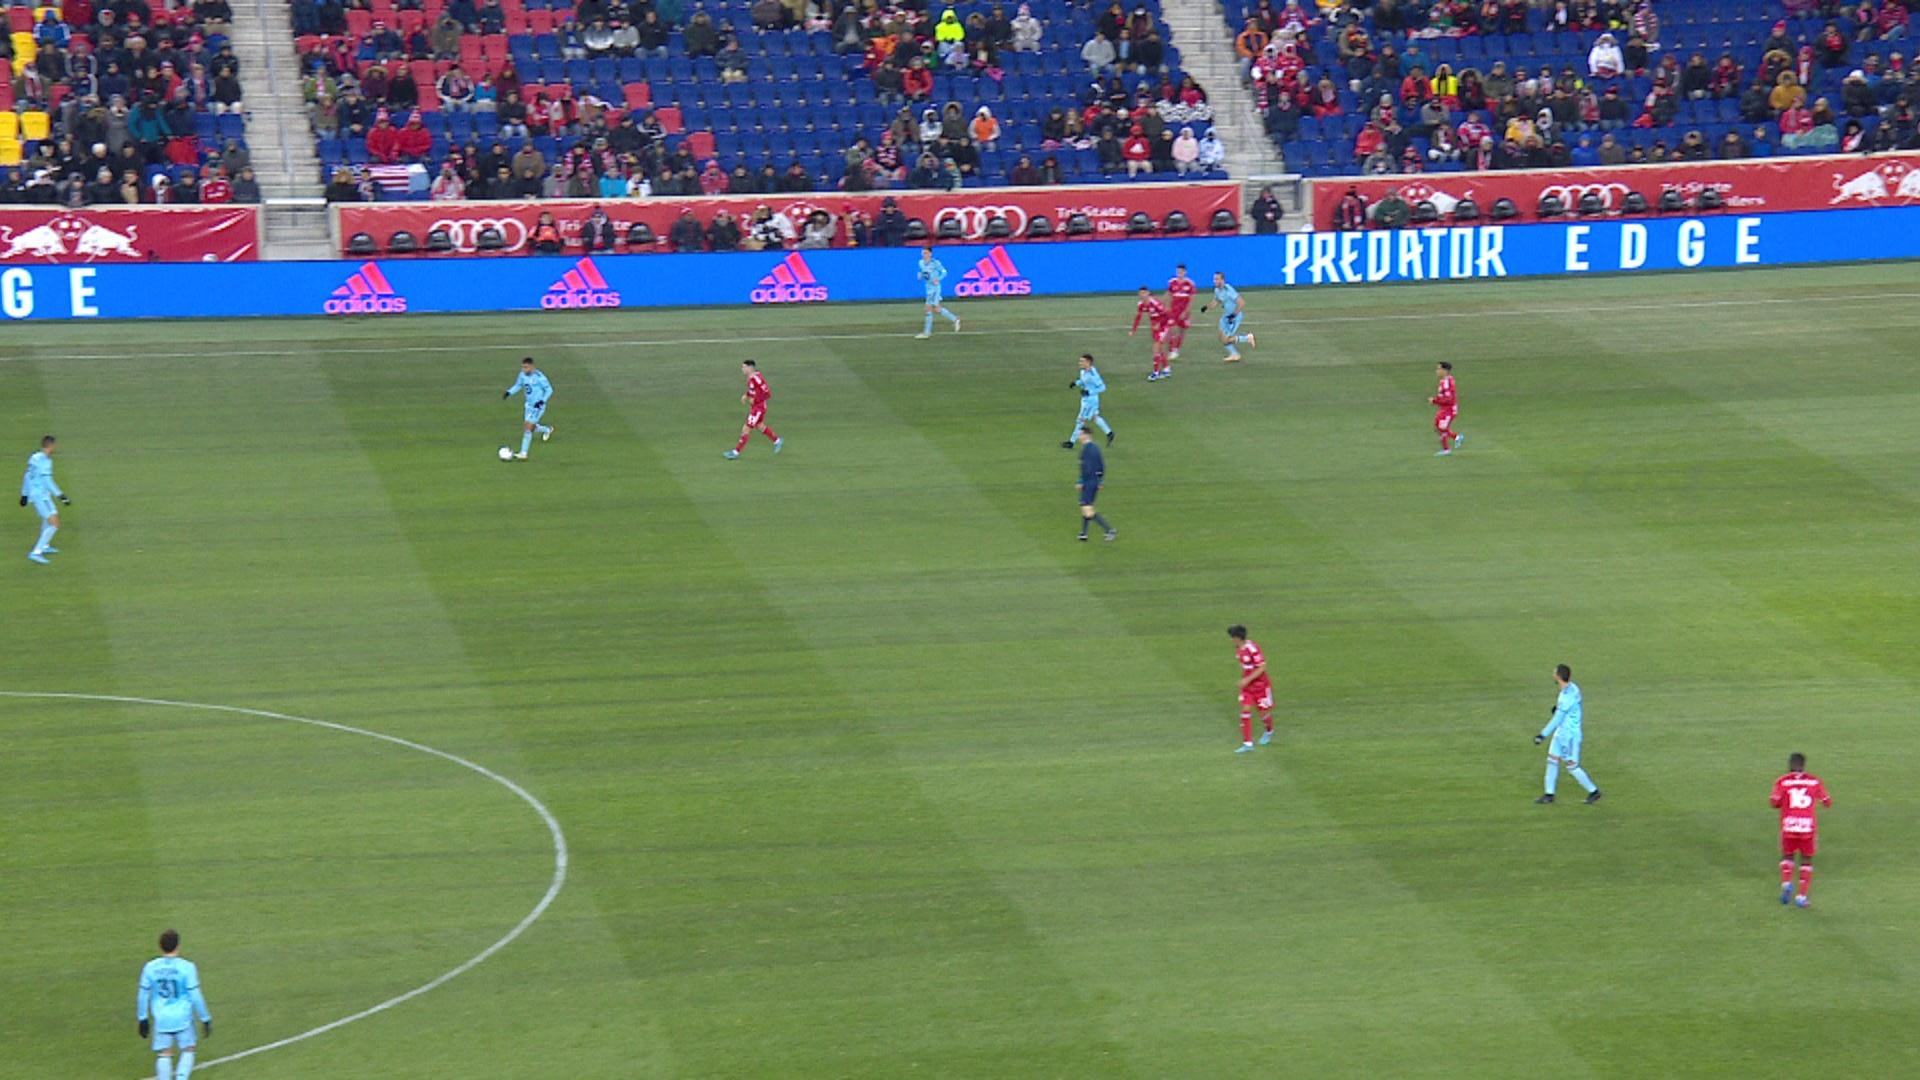football: (497, 443, 514, 462)
